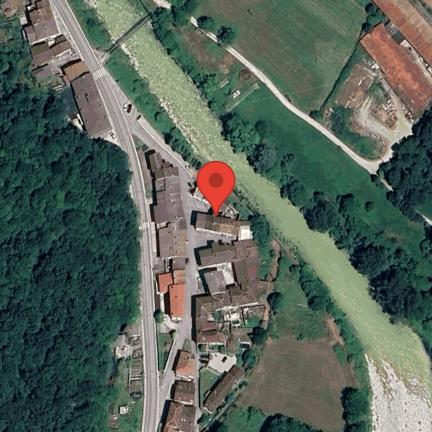area_open: (100, 60, 216, 216), (338, 0, 432, 161), (197, 349, 236, 377), (48, 48, 84, 77), (172, 318, 197, 354), (196, 231, 238, 250)
built: (195, 213, 268, 351), (149, 153, 188, 323), (31, 61, 114, 138), (25, 0, 74, 66), (163, 351, 196, 432), (203, 364, 247, 415)
vegetation_high: (0, 10, 141, 432), (222, 116, 432, 321), (383, 110, 432, 217), (153, 0, 198, 62), (290, 264, 331, 310), (345, 392, 372, 432), (262, 416, 324, 432), (250, 214, 275, 247)
vegetation_low: (169, 22, 432, 287), (199, 235, 373, 432), (193, 0, 387, 161), (66, 0, 203, 170), (99, 299, 144, 432), (155, 314, 177, 386), (223, 190, 260, 220), (199, 368, 223, 410)
water: (86, 0, 432, 432)
